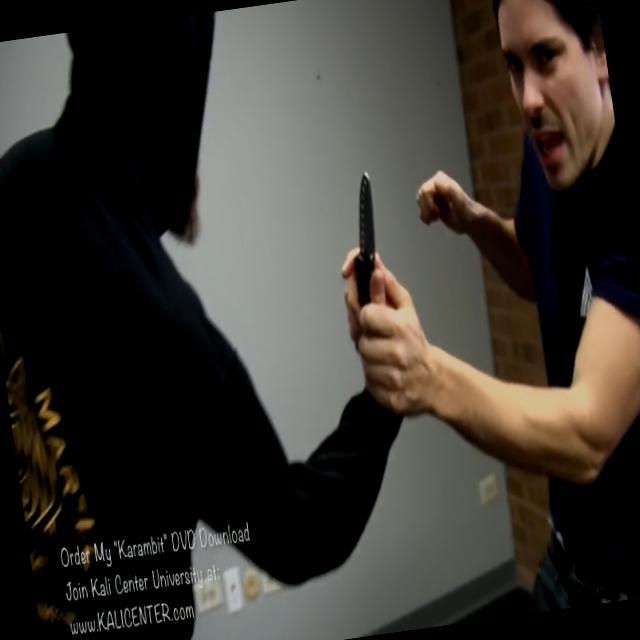knife: (318, 154, 424, 370)
